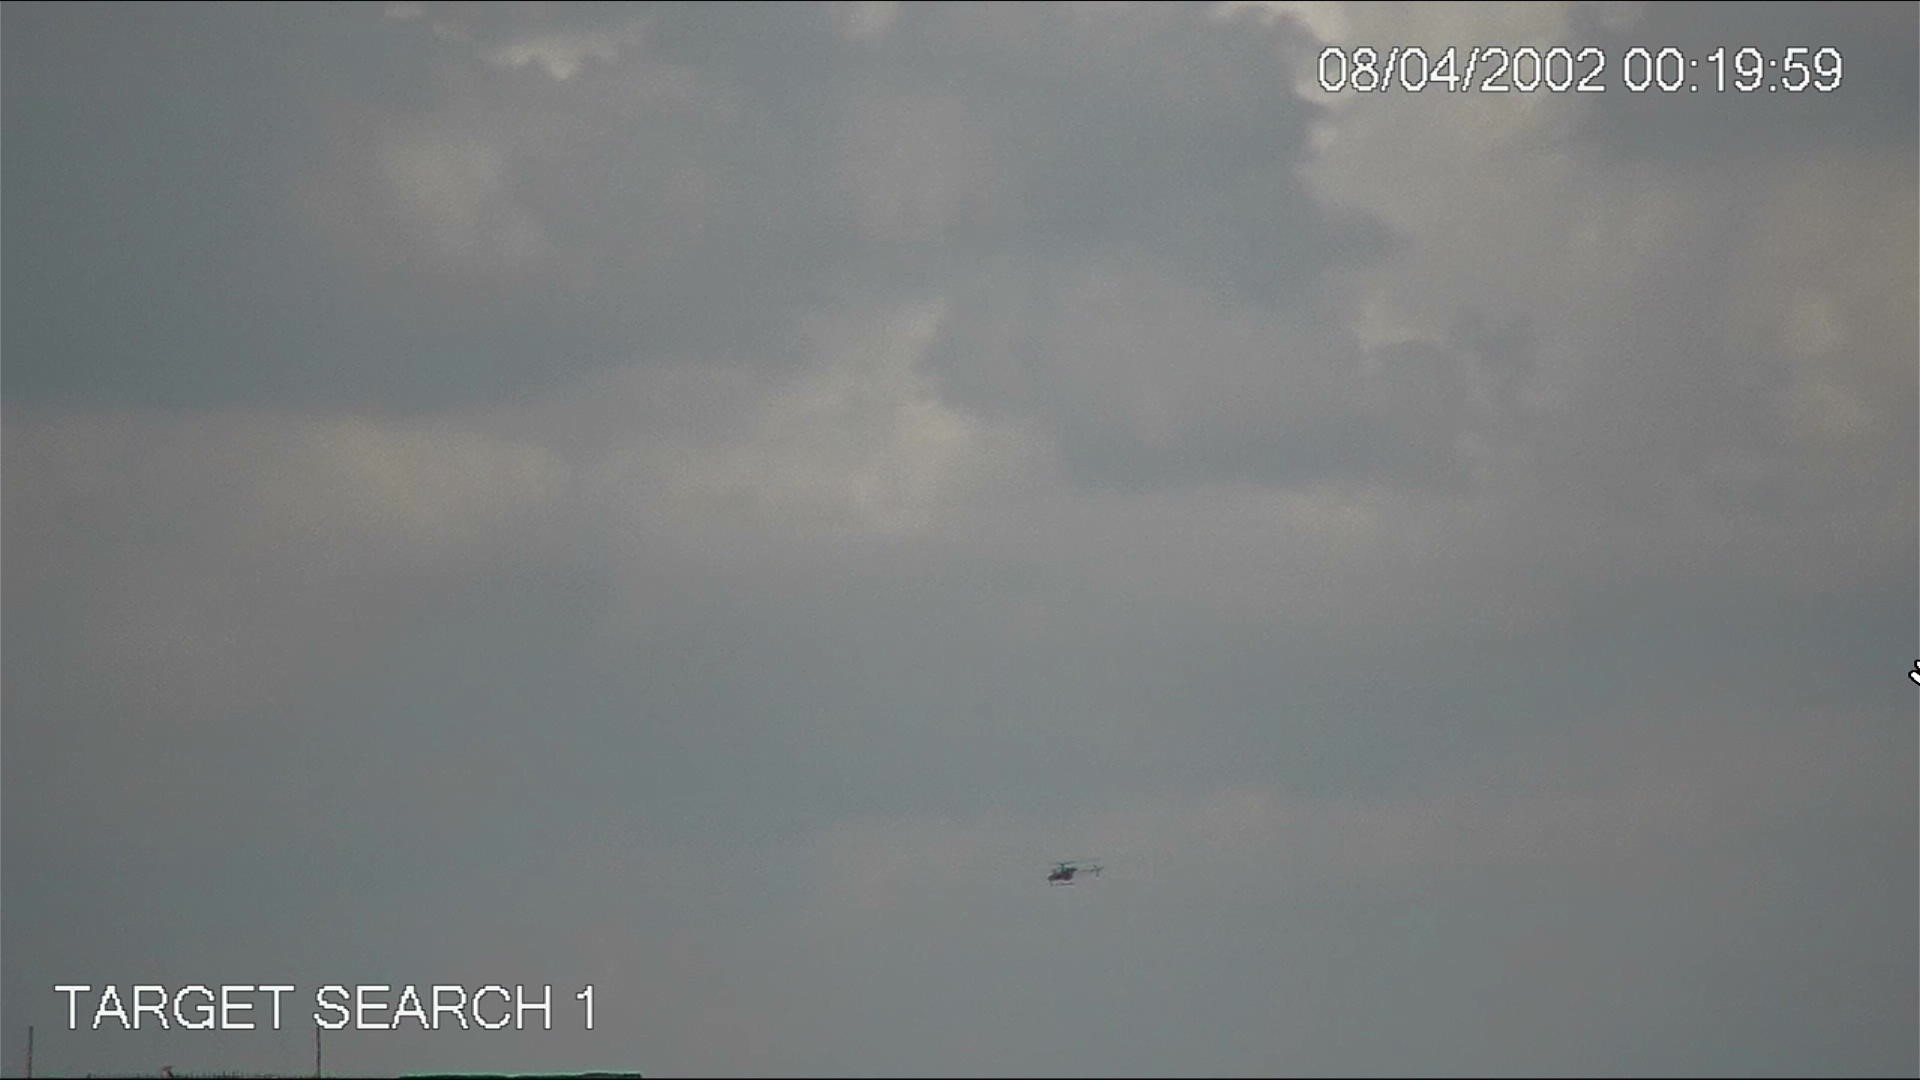SU_30: (1043, 855, 1105, 889)
